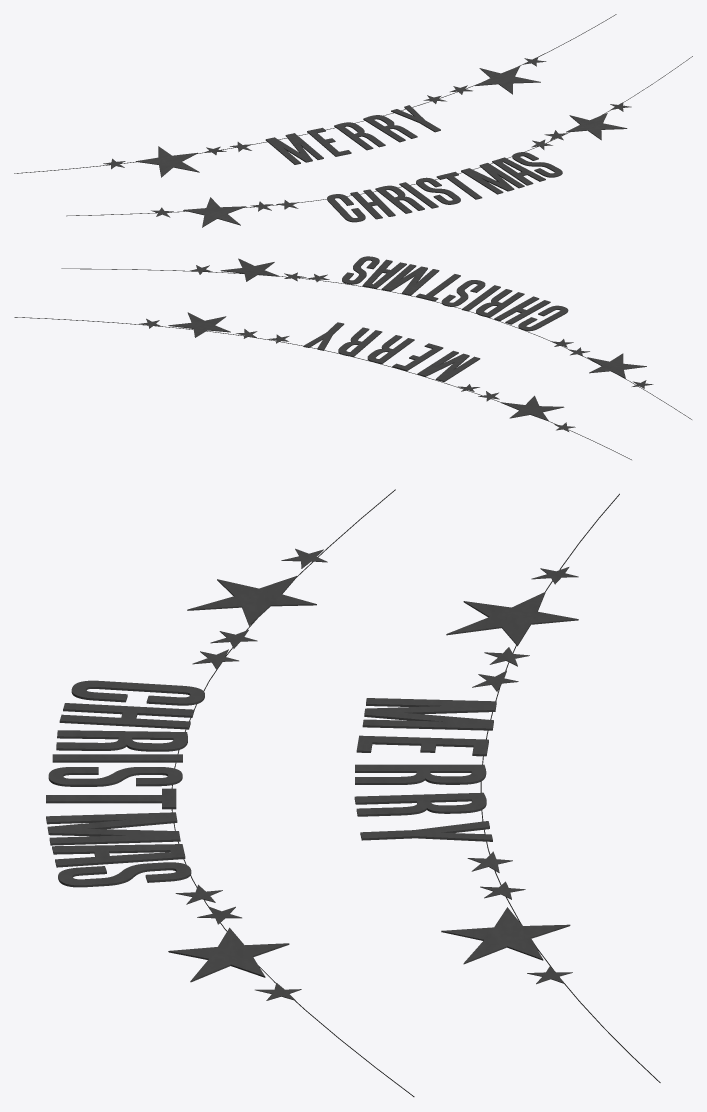
File: merrychristmaswalldeco.gltf
3 views of the same model, one above another, from view 1: azimuth 30°, elevation 25°; view 2: azimuth 150°, elevation 25°; view 3: azimuth 270°, elevation 25° (orthographic). The views are drawn at different scales.
Visible parts, largest first — view 1: merrychristmas; view 2: merrychristmas; view 3: merrychristmas.
Part boxes in pixels (left/top/right/bottom): merrychristmas: left=14, top=14, right=692, bottom=227; merrychristmas: left=14, top=256, right=691, bottom=459; merrychristmas: left=46, top=489, right=660, bottom=1096.
Size of the model in its own units: 1.84 by 0.0175 by 0.7837.
Materials: 1 (1 with a texture image).
